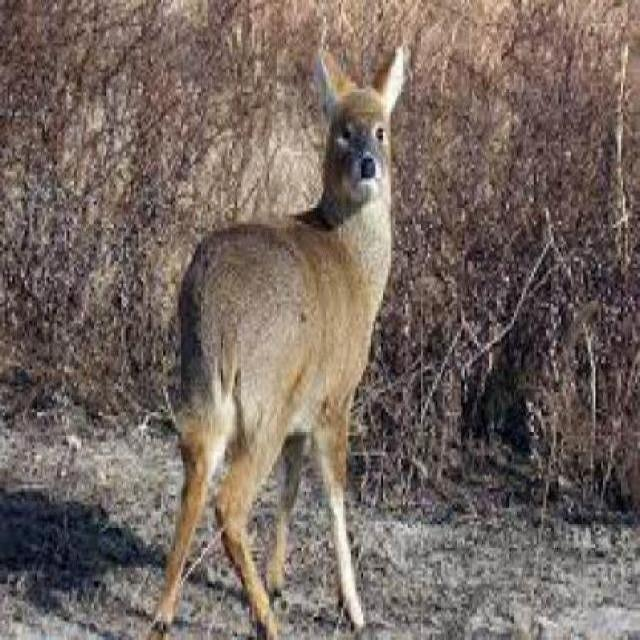deer: (148, 40, 424, 637)
